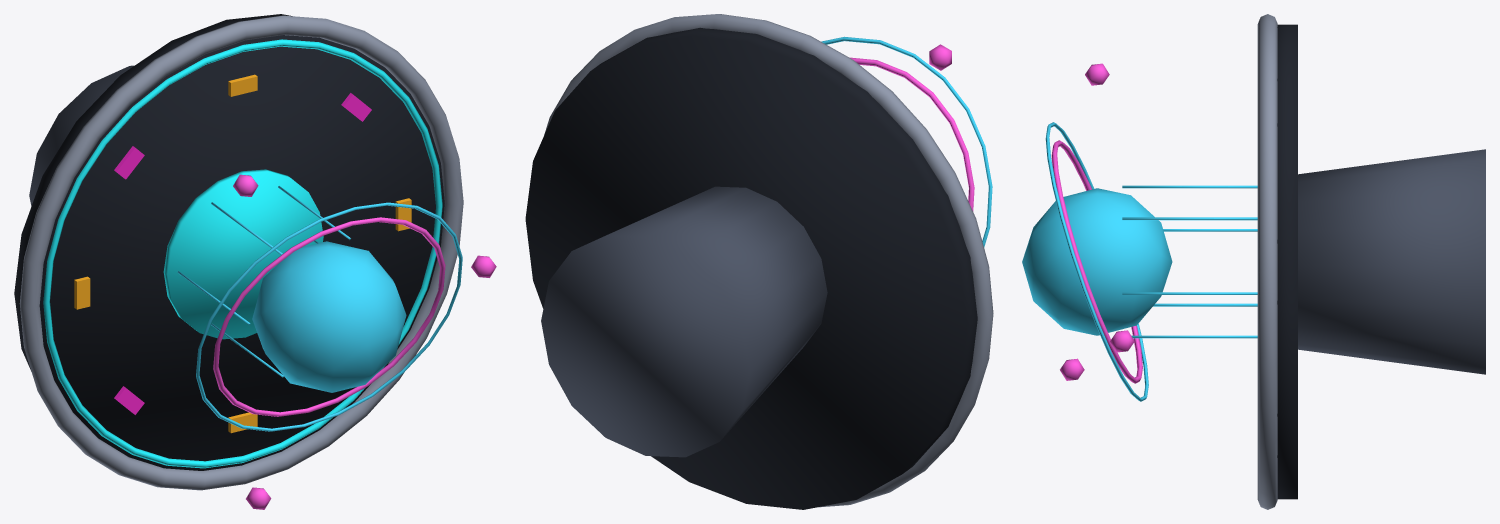
File: shooter-holotable.glb
3 renders of one model, left to right at view 1: azimuth 30°, elevation 25°; view 2: azimuth 150°, elevation 25°; view 3: azimuth 270°, elevation 25°, orthographic. The views are drawn at different scales.
Visible parts, largest first — view 1: Model Mesh, Spin Globe Mesh; view 2: Model Mesh, Spin Globe Mesh; view 3: Model Mesh, Spin Globe Mesh.
Boxes of the visible parts, left/top/right/bottom form: Model Mesh: left=14, top=14, right=463, bottom=490; Spin Globe Mesh: left=196, top=174, right=496, bottom=509; Model Mesh: left=525, top=14, right=993, bottom=509; Spin Globe Mesh: left=821, top=36, right=992, bottom=247; Model Mesh: left=1122, top=14, right=1485, bottom=509; Spin Globe Mesh: left=1022, top=63, right=1172, bottom=401.
Bounding box in the file's own units: 1.98 × 1.98 × 1.85.
Materials: 2 (2 with a texture image).
